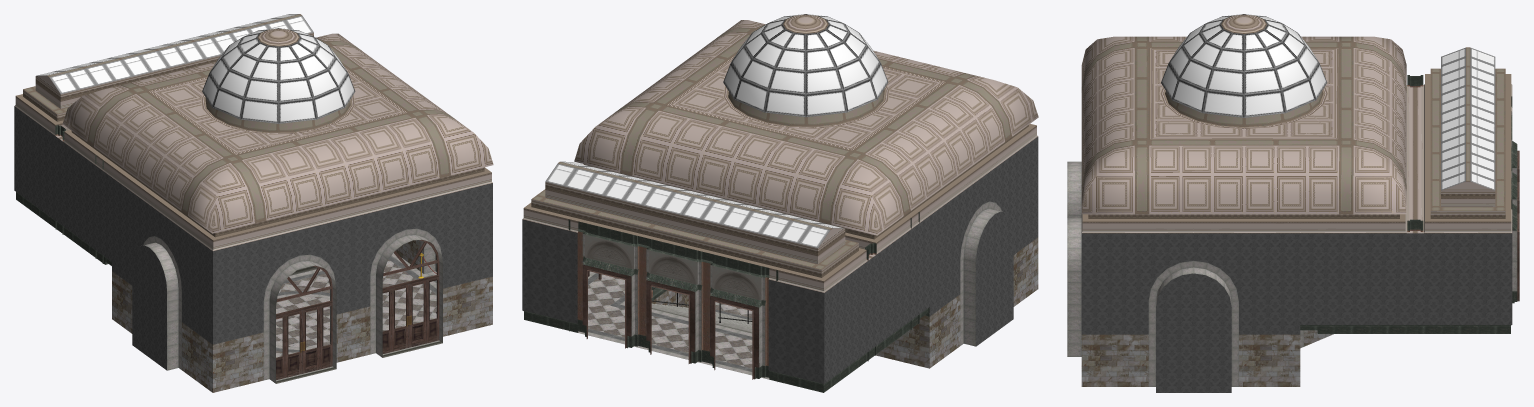
Rendered from Entrance.dae.
3 renders of one model, left to right at view 1: azimuth 30°, elevation 25°; view 2: azimuth 150°, elevation 25°; view 3: azimuth 270°, elevation 25°, orthographic. The views are drawn at different scales.
Visible parts, largest first — view 1: Entrance (×13); view 2: Entrance (×15); view 3: Entrance (×10).
Boxes of the visible parts, left/top/right/bottom form: Entrance (×13): left=14, top=14, right=493, bottom=392; Entrance (×15): left=522, top=14, right=1038, bottom=392; Entrance (×10): left=1067, top=14, right=1519, bottom=392.
Bounding box in the file's own units: 2637 × 2258 × 3142.
Materials: 24 (24 with a texture image).
